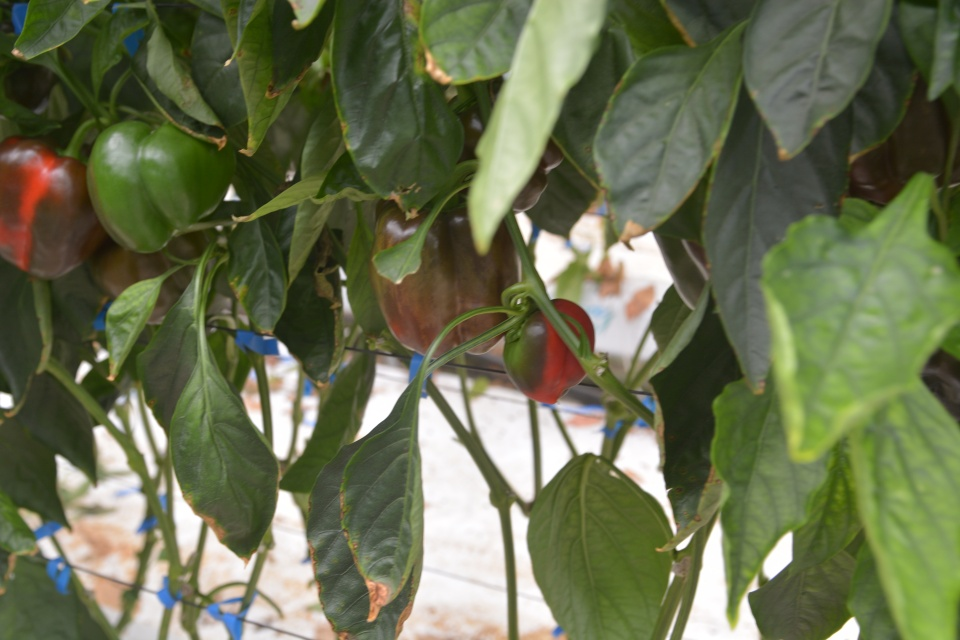fruit: (367, 181, 522, 362), (87, 114, 232, 256), (0, 135, 109, 280), (500, 296, 597, 407)
pedicle: (423, 193, 466, 210)
